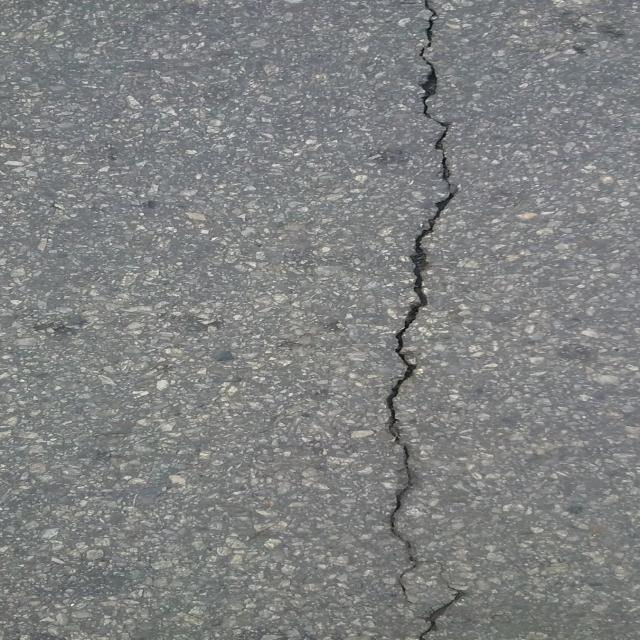Crack: (384, 0, 456, 577), (415, 586, 469, 640)
